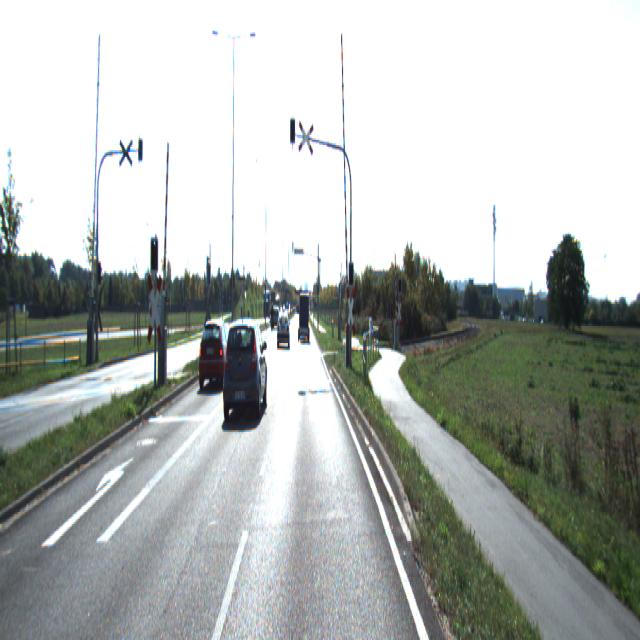Car: (221, 310, 267, 426), (197, 318, 234, 390), (277, 311, 290, 344)
Van: (298, 291, 309, 338)
